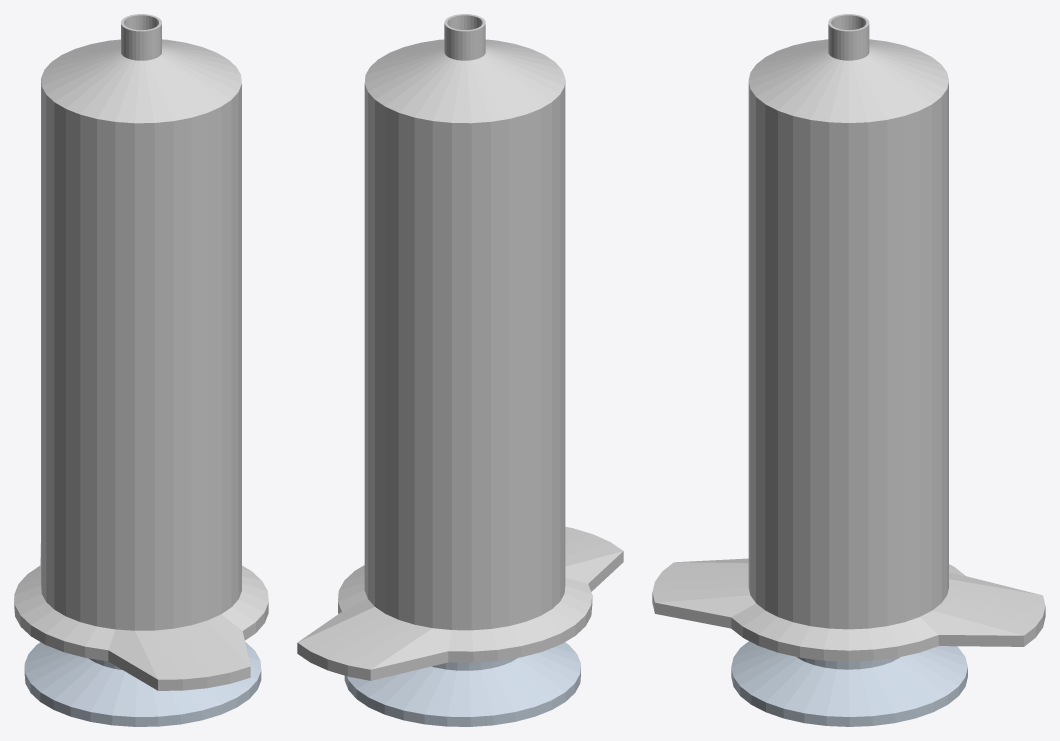
The model's file is Spritze.gltf.
3 views of the same model, side by side, from view 1: azimuth 30°, elevation 25°; view 2: azimuth 150°, elevation 25°; view 3: azimuth 270°, elevation 25° (orthographic).
Visible parts, largest first — view 1: Zylinder.001, Zylinder; view 2: Zylinder.001, Zylinder; view 3: Zylinder.001, Zylinder.
Part boxes in pixels (x1,y1,x2,y2): Zylinder.001: (14,14,268,690); Zylinder: (24,642,261,726); Zylinder.001: (297,14,623,680); Zylinder: (344,642,580,726); Zylinder.001: (652,14,1045,661); Zylinder: (731,641,967,726).
Bounding box in the file's own units: 0.4438 × 1.26 × 0.6856.
